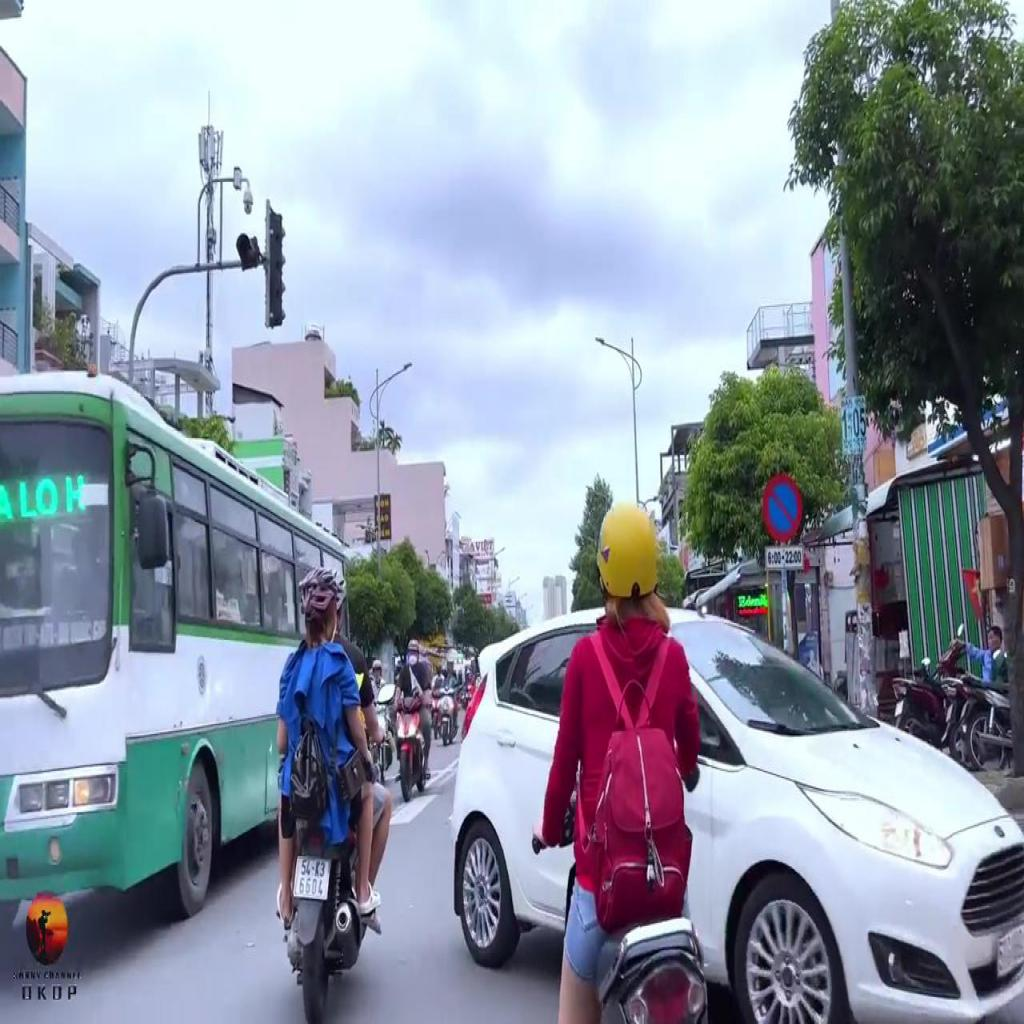cam_do_xe: (764, 475, 802, 540)
khac: (765, 546, 803, 568)
